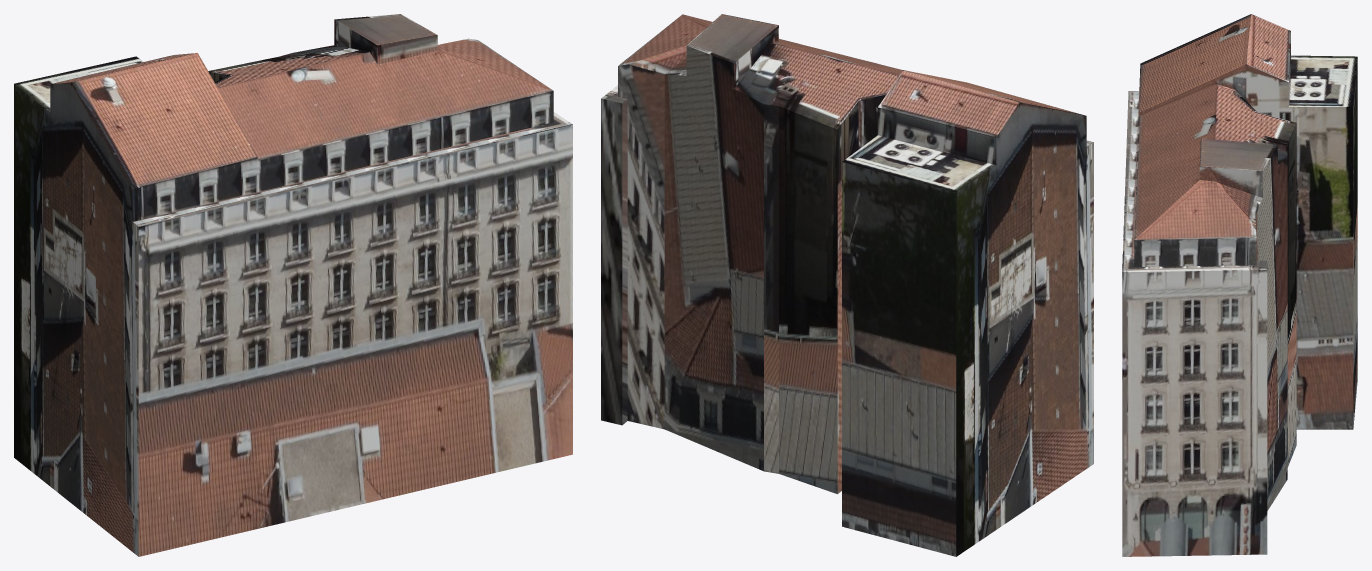
3 views of the same model, side by side, from view 1: azimuth 30°, elevation 25°; view 2: azimuth 150°, elevation 25°; view 3: azimuth 270°, elevation 25° (orthographic). The views are drawn at different scales.
Parts seen in each view (by area): view 1: Z_UP; view 2: Z_UP; view 3: Z_UP.
Part boxes in pixels (x1,y1,x2,y2): Z_UP: [14, 14, 572, 556]; Z_UP: [601, 14, 1093, 556]; Z_UP: [1122, 14, 1357, 556].
Size of the model in its own units: 30.01 by 28.17 by 16.48.
Materials: 2 (1 with a texture image).
